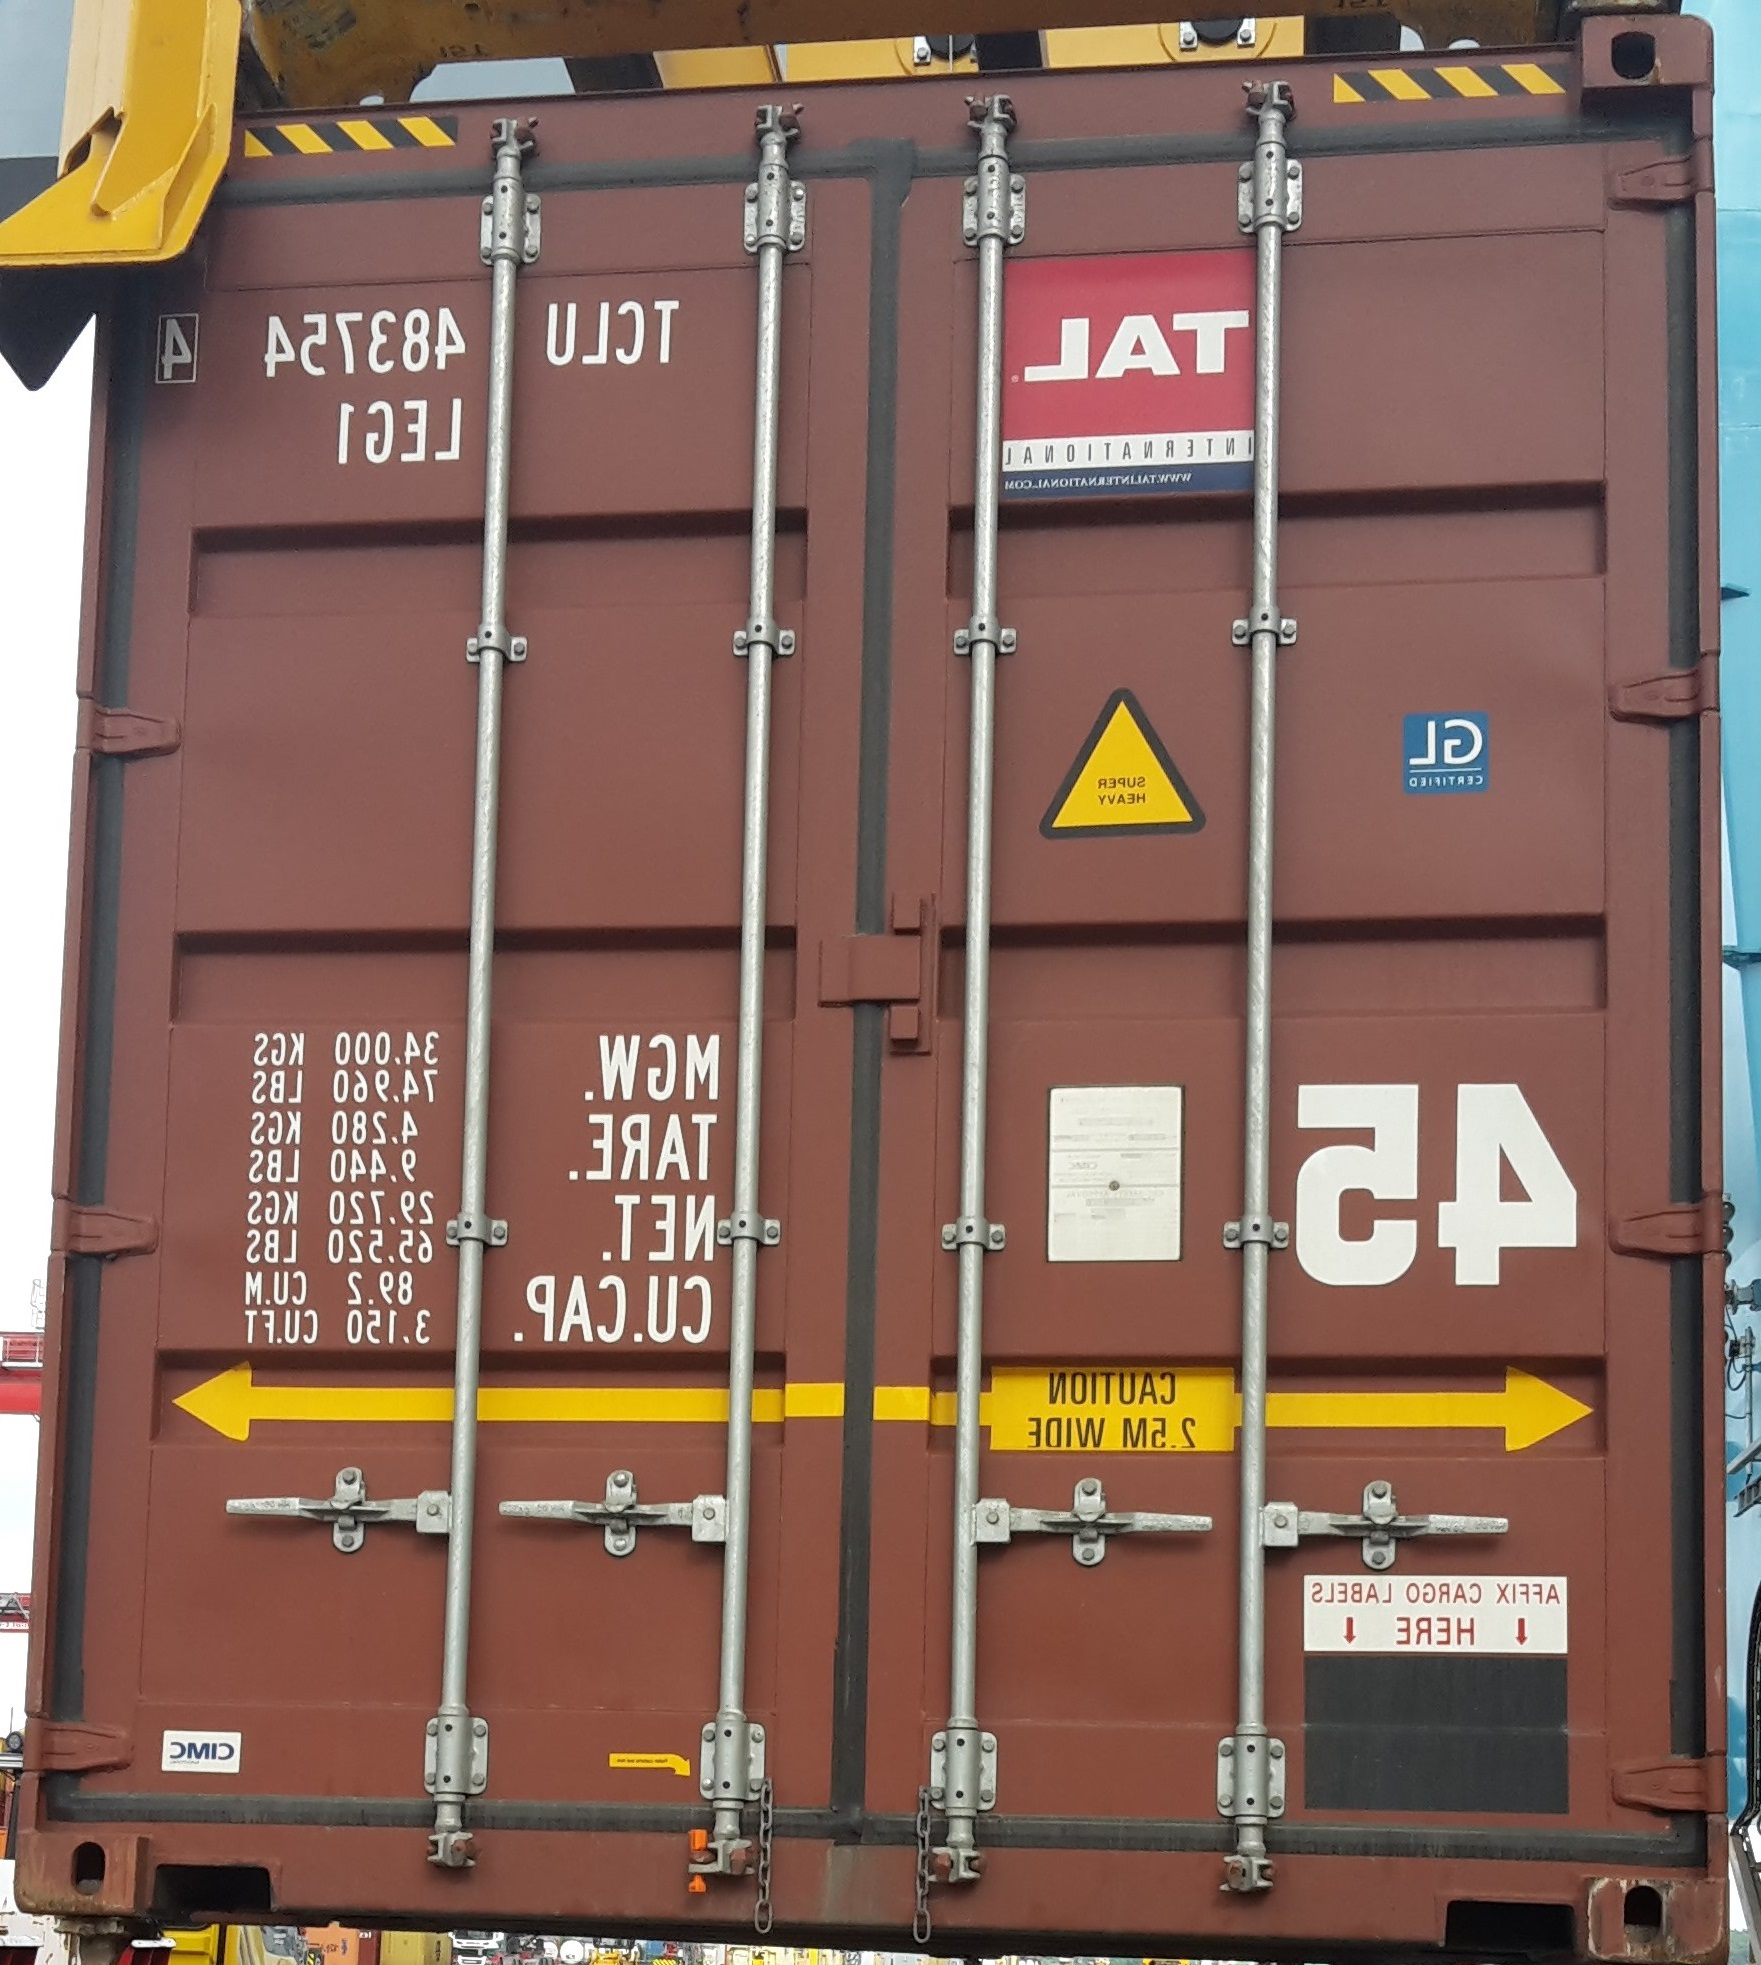container_door: (14, 27, 1730, 1923)
